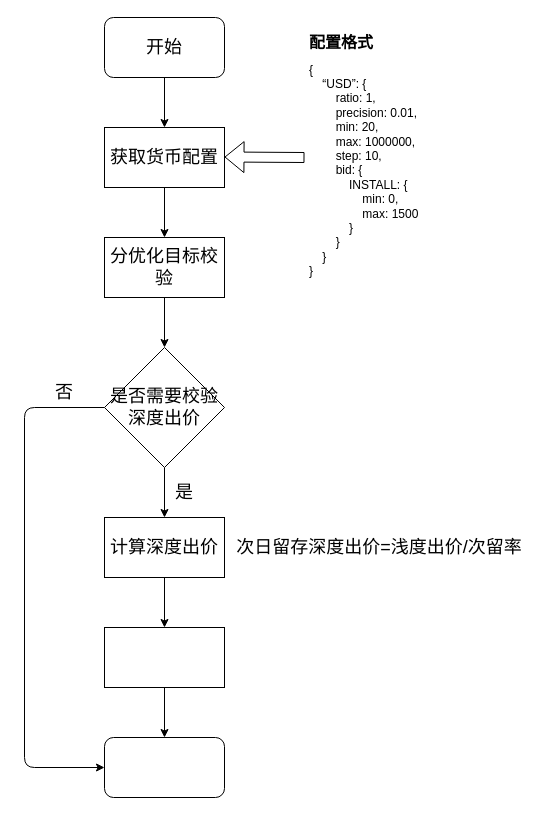
The diagram is 552 pixels wide and 815 high, and some of its shapes have lost their labels. The shapes that lost their labels are listed below. From the top down, each one's box as (x1, y1, x2, y2) in pixels, then its label:
(104, 626, 224, 688): 校验校验结果
(104, 736, 224, 798): 结束
